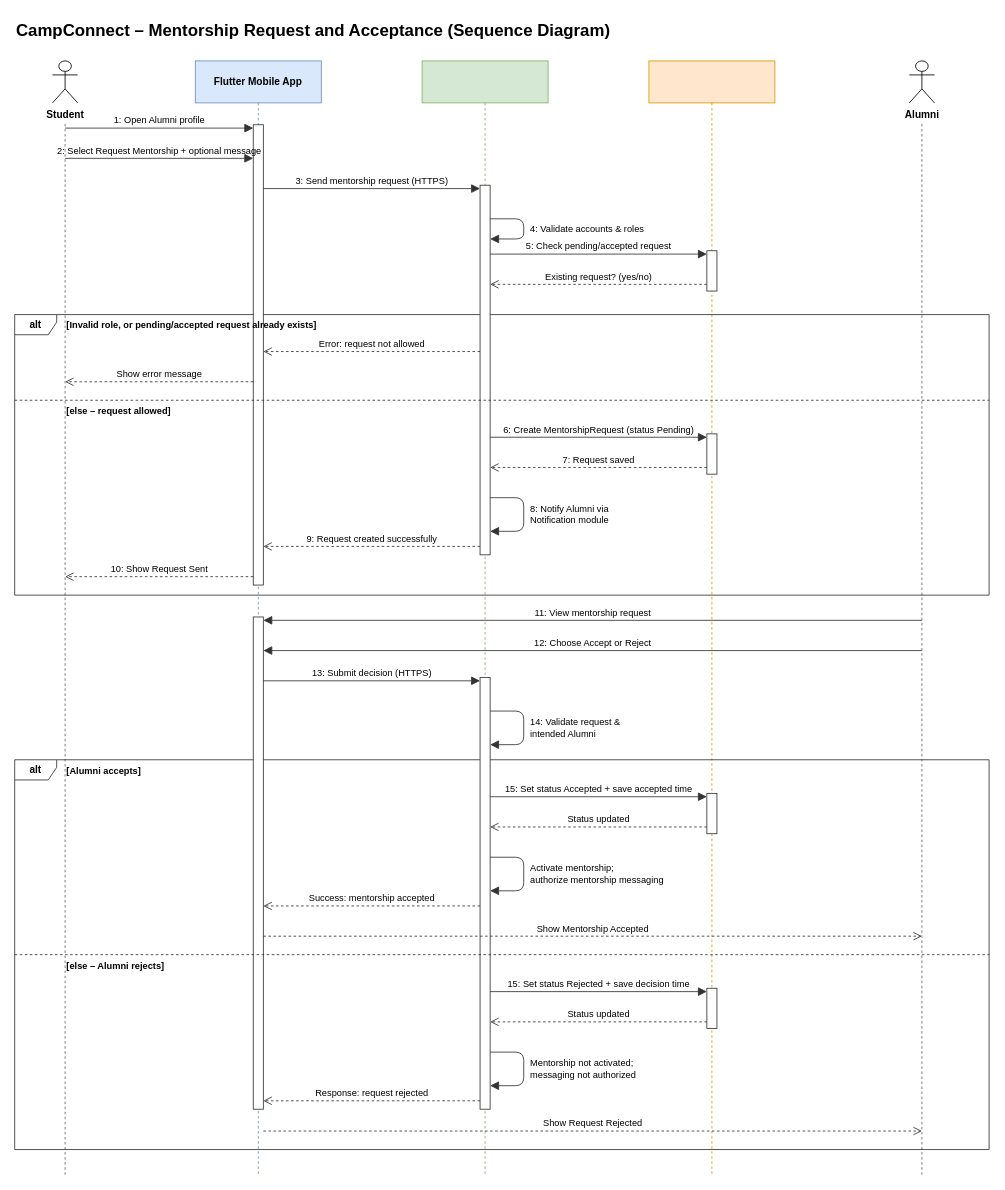
The diagram is 1005 pixels wide and 1190 high, and some of its shapes have lost their labels. Here are the shapes that lost their labels. From the top down, the box of each, then its label:
(421, 60, 548, 1175): Dart Backend API (Framework Not Decided)
(648, 60, 775, 1175): MariaDB Database
